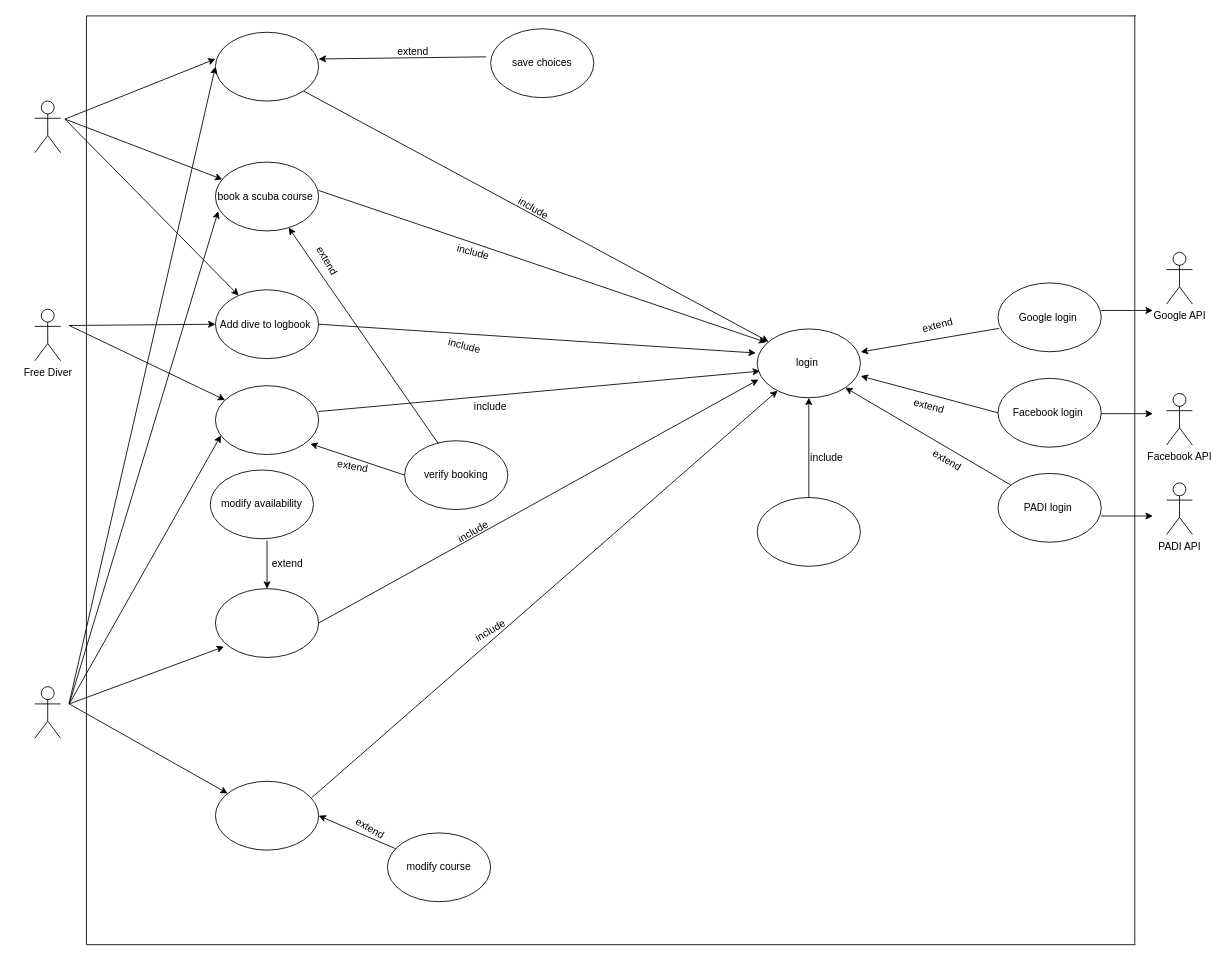
Image size: 1226x961. Some labels were removed from this diagram. The centre of each missing label's shape, as x and y in pixels:
"add equipment" belongs at (267,622).
"add new course" belongs at (267,815).
"book a freediving course" belongs at (267,420).
"Diving manger" belongs at (47,712).
"rent equipment" belongs at (267,66).
"Scuba Diver" belongs at (47,126).
"sign in" belongs at (808,531).
